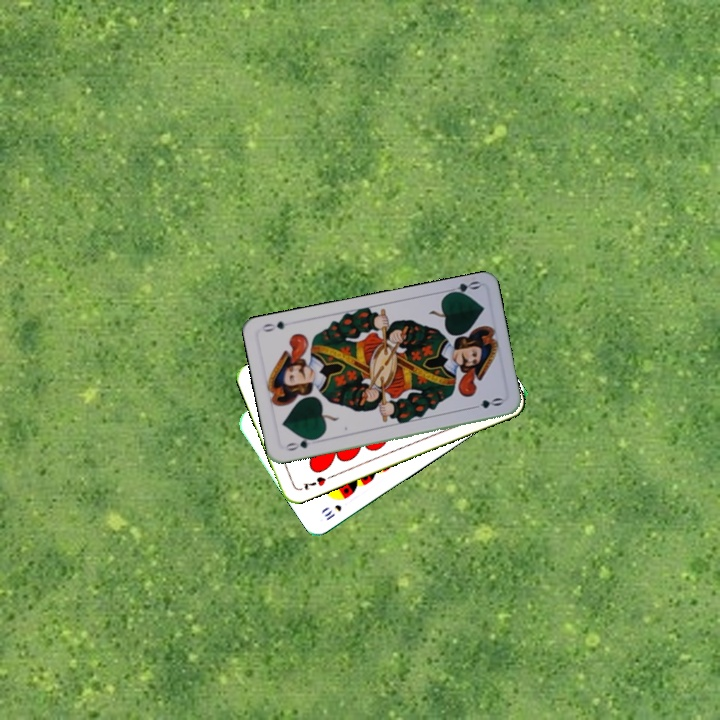GO: (441, 277, 482, 298), (280, 434, 320, 453)
H7: (299, 471, 335, 493)
S10: (320, 501, 344, 523)
